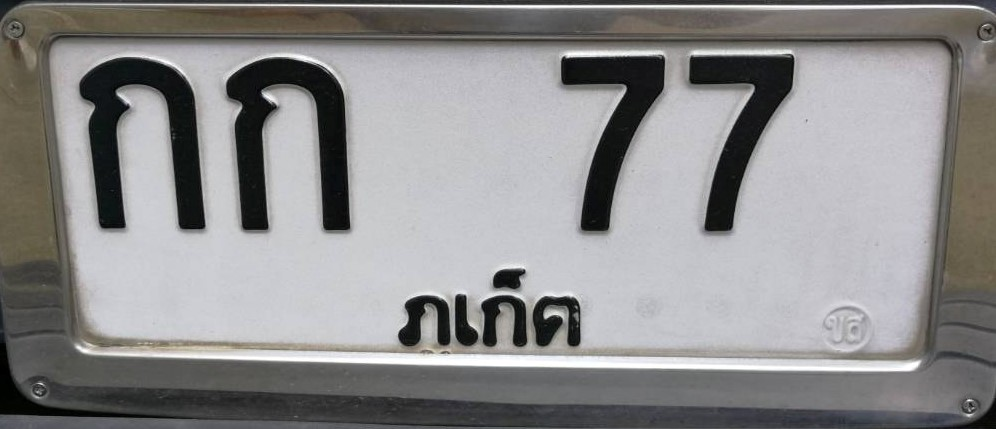txt01: (223, 52, 357, 236), (75, 51, 210, 233)
